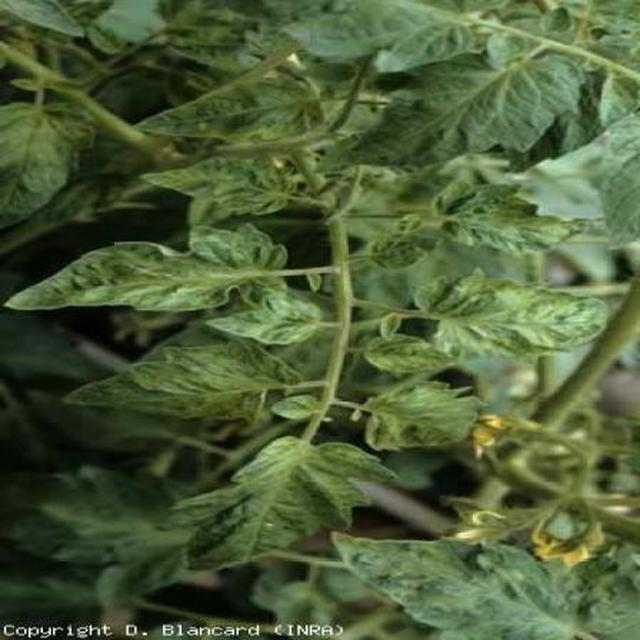Mosaic Virus Leaf: (171, 90, 640, 640)
